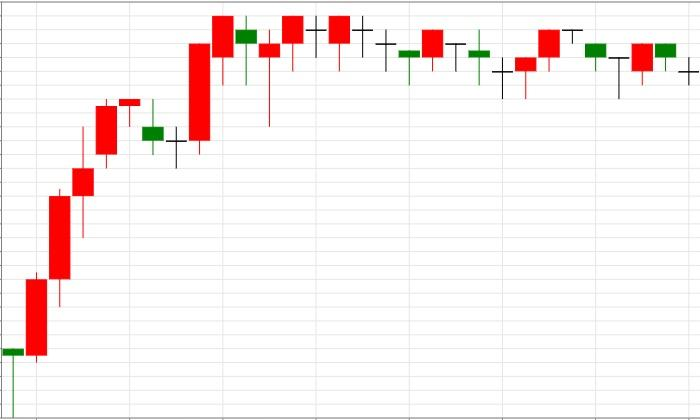morning_star_rise: (96, 43, 211, 169)
